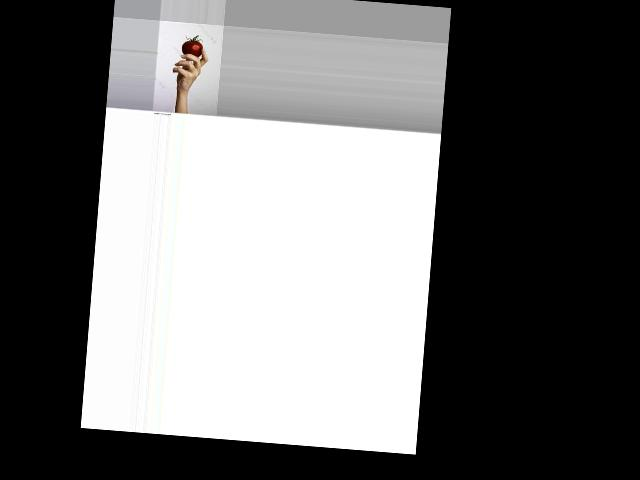tomato: (181, 34, 203, 57)
